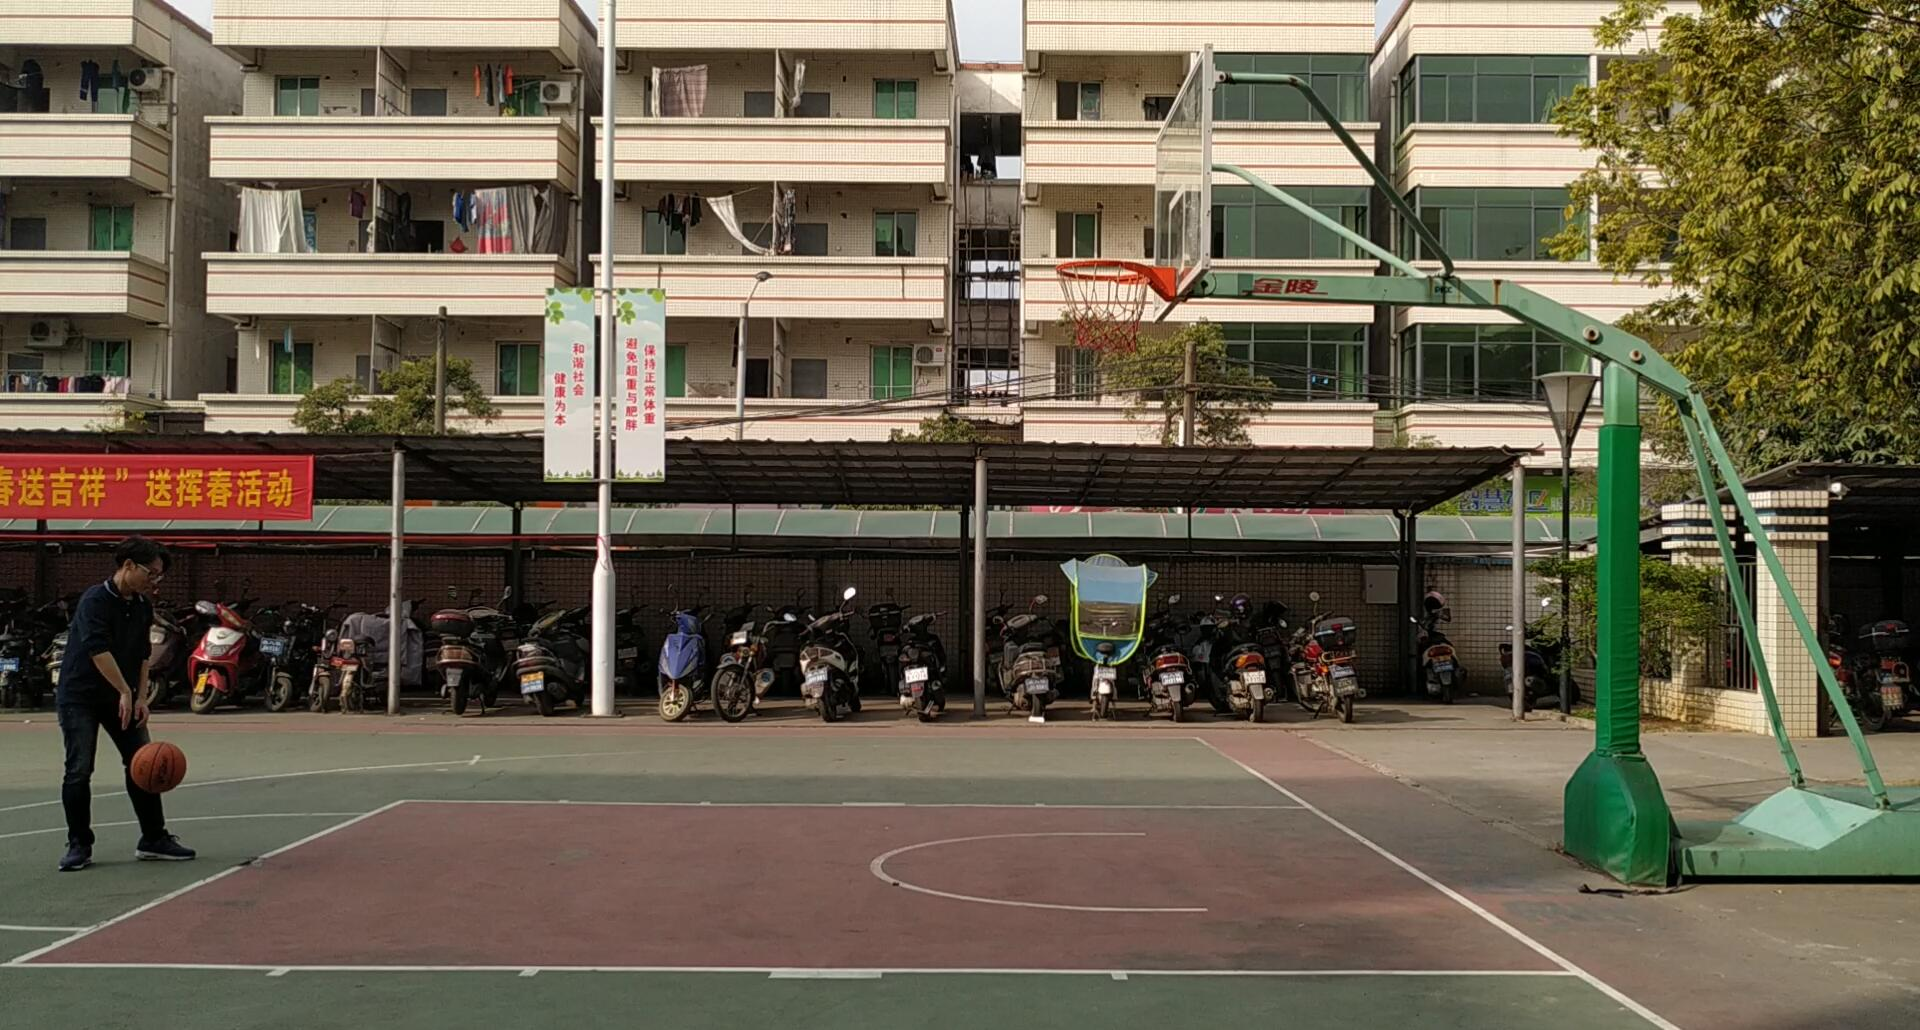basketball: (128, 737, 190, 798)
